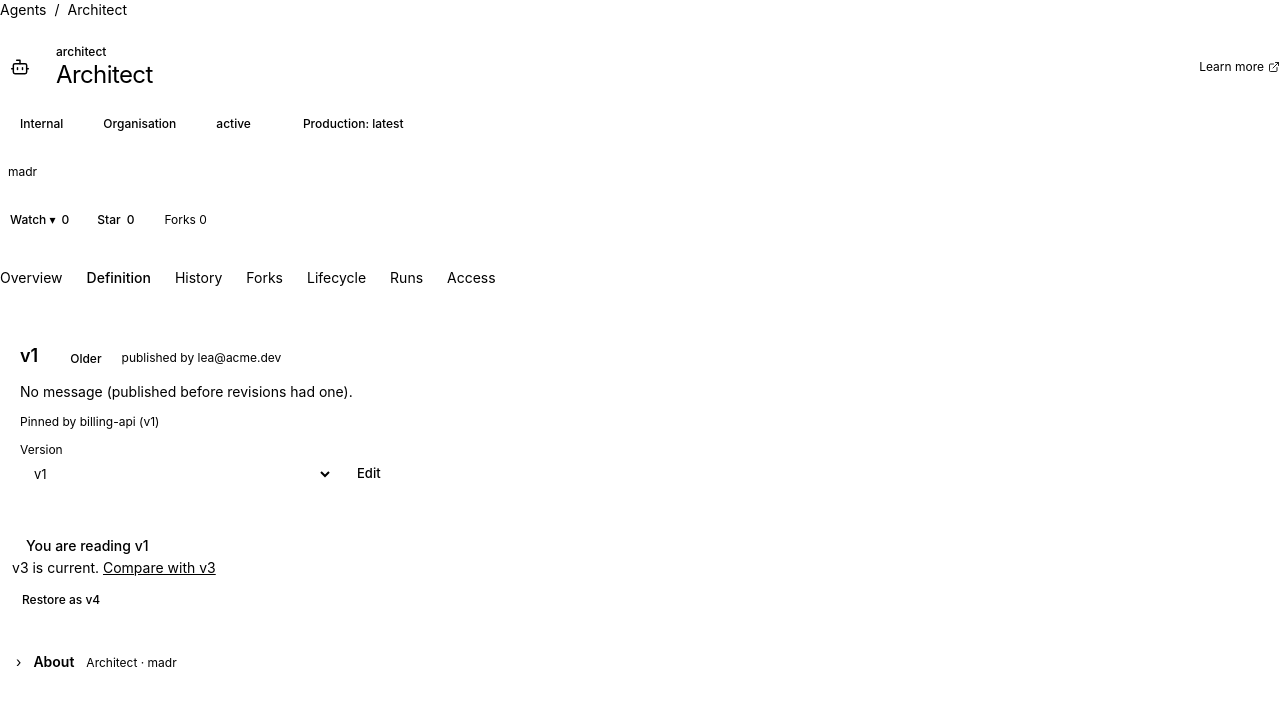
Test case: the Definition tab › reading an older version says so, offers the comparison and the restore
Check: the text "You are reading v1" is shown, box top-left (26, 537), bottom-right (148, 554)
What coordinates should you click on to do the following:
click the button "Restore as v4"
I would click on:
 (61, 600)
Its box is top-left (12, 586), bottom-right (110, 614).
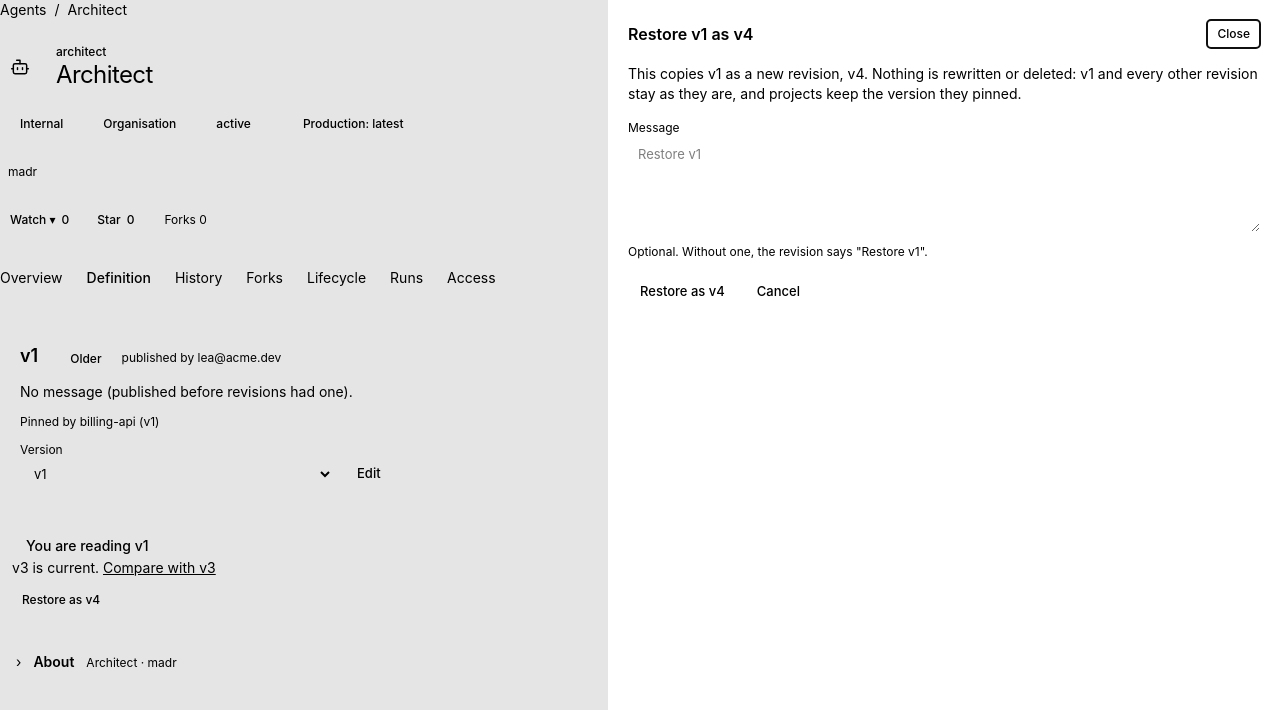
Check: the form named "Restore" is shown, box top-left (628, 64), bottom-right (1260, 308)
